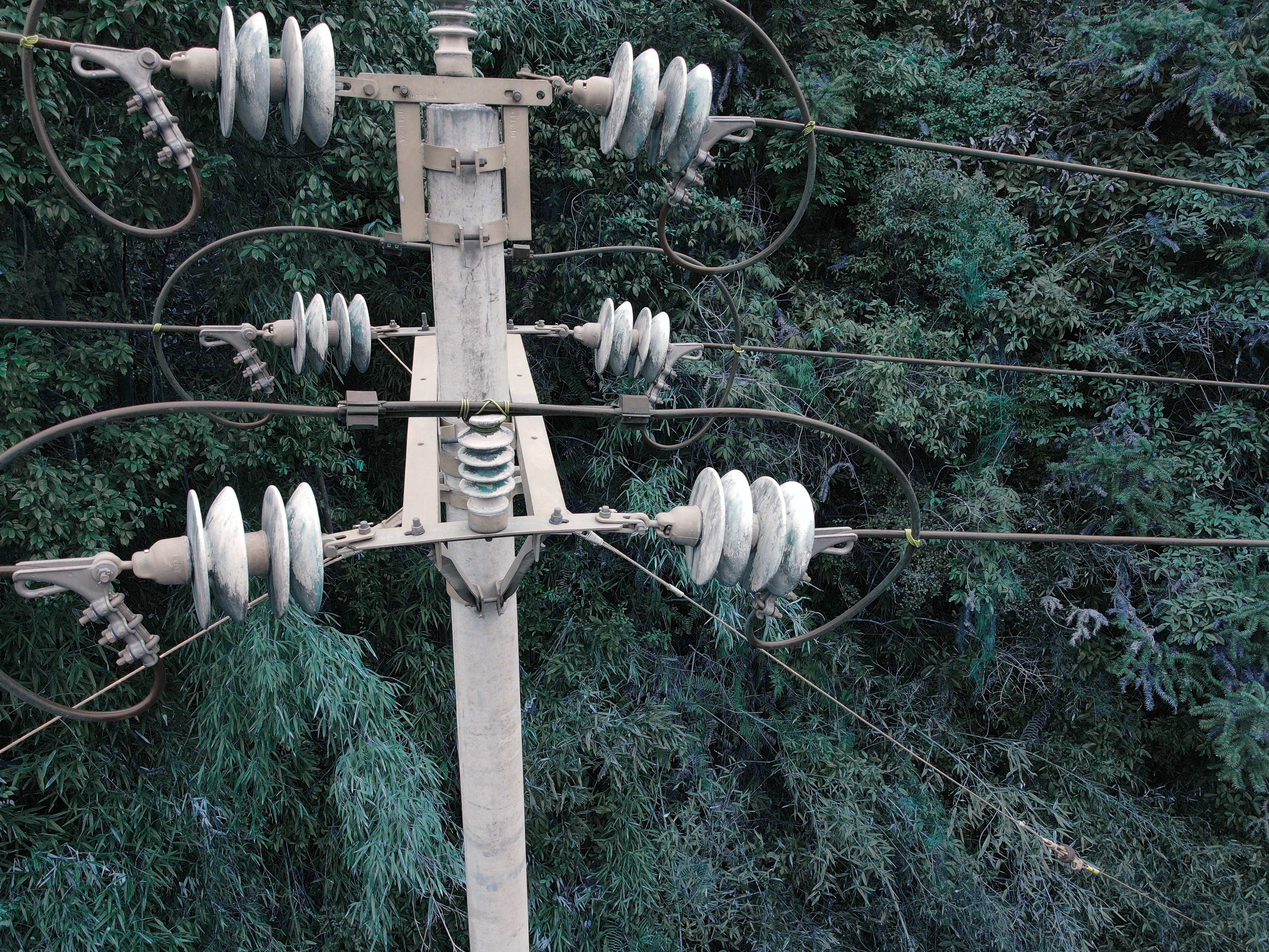severe_soiling_no_discharge_whole: (131, 480, 333, 627), (168, 5, 343, 153), (662, 464, 820, 598), (566, 39, 713, 174), (262, 291, 377, 378), (574, 298, 673, 384), (457, 410, 517, 529), (425, 4, 476, 73)
